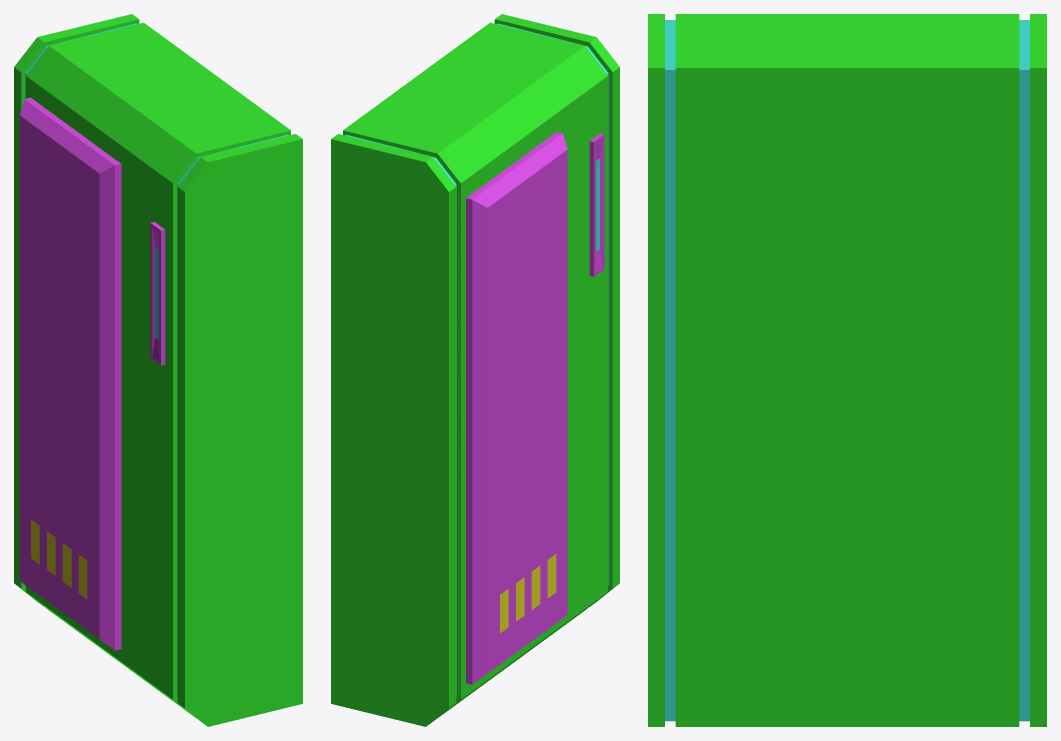
Rendered from Circuit_Box_01.fbx.
3 renders of one model, left to right at view 1: azimuth 30°, elevation 25°; view 2: azimuth 150°, elevation 25°; view 3: azimuth 270°, elevation 25°, orthographic. The views are drawn at different scales.
Parts seen in each view (by area): view 1: Circuit_Box_01; view 2: Circuit_Box_01; view 3: Circuit_Box_01.
Part boxes in pixels (x1=…): Circuit_Box_01: x1=14, y1=14, x2=302, y2=726; Circuit_Box_01: x1=331, y1=14, x2=619, y2=726; Circuit_Box_01: x1=648, y1=14, x2=1046, y2=726.
Bounding box in the file's own units: 32.25 × 129 × 70.74.
